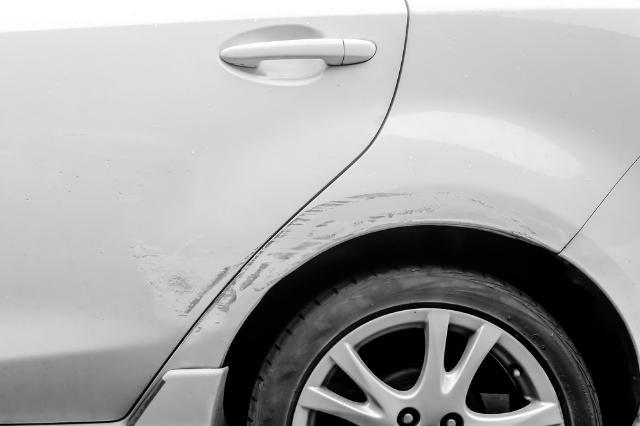Fender: (265, 196, 561, 314)
